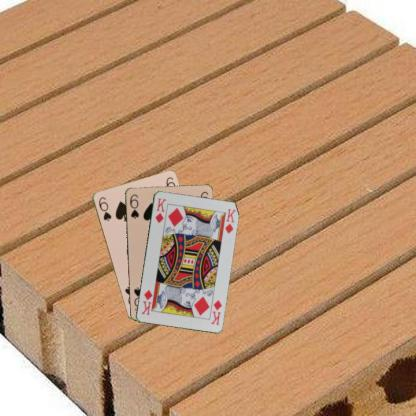6s: (96, 194, 113, 222), (127, 191, 140, 220)
Kd: (208, 297, 223, 326), (153, 195, 167, 224)
